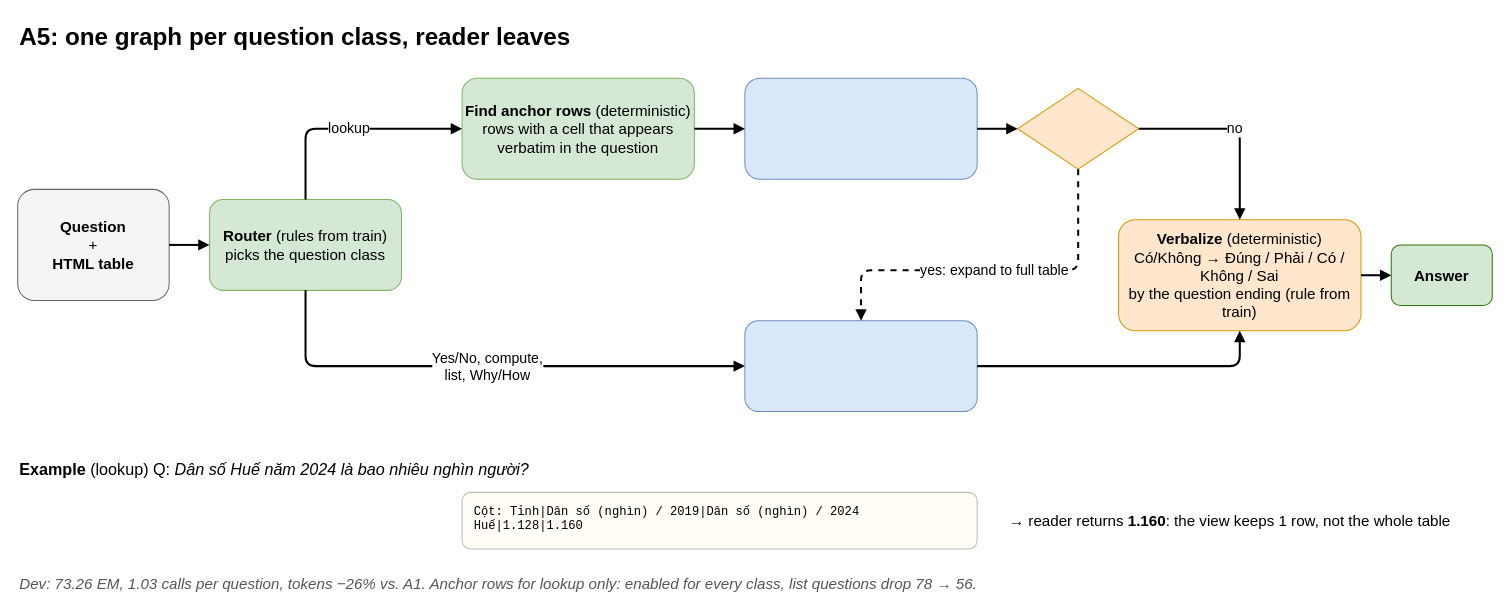
Image size: 1510x615. Some labels were removed from this diagram. Each missing label, with the centre of its shape:
"Answer is Null?" belongs at (x=1078, y=128).
"Reader on anchor rows (pipe_nohdr, those rows only)" belongs at (x=860, y=128).
"Reader on full table (pipe_nohdr)" belongs at (x=860, y=366).
